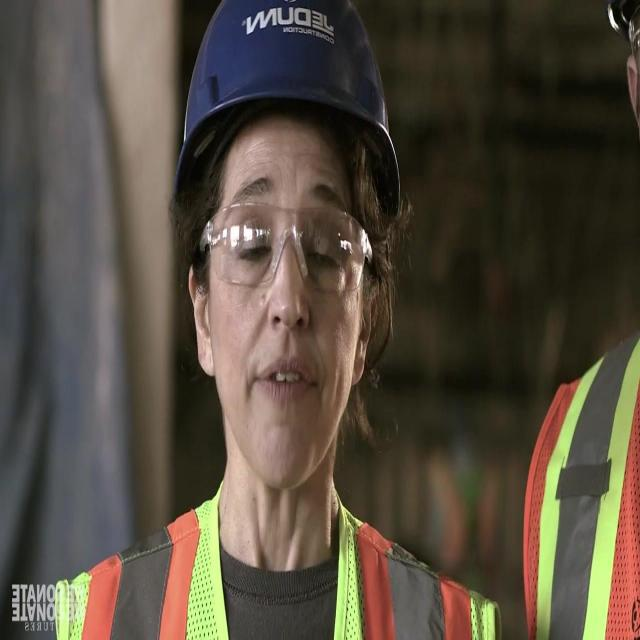Reflective-Jacket: (50, 493, 519, 640), (516, 297, 640, 640)
Safety-Helmet: (165, 5, 411, 236)
